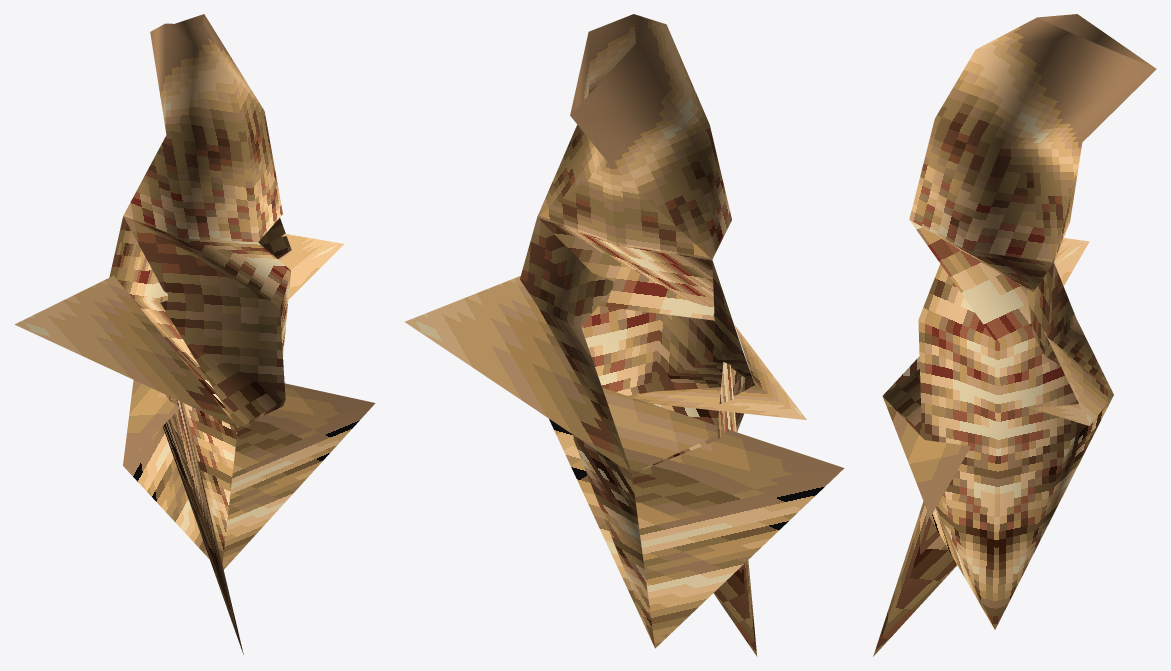
3 views of the same model, side by side, from view 1: azimuth 30°, elevation 25°; view 2: azimuth 150°, elevation 25°; view 3: azimuth 270°, elevation 25° (orthographic). The views are drawn at different scales.
Parts seen in each view (by area): view 1: 4829fish39; view 2: 4829fish39; view 3: 4829fish39.
Boxes of the visible parts, x1,y1,x2,y2 form: 4829fish39: (14,14,375,654); 4829fish39: (405,14,844,656); 4829fish39: (873,14,1156,656).
Size of the model in its own units: 0.6504 by 1.08 by 0.4222.
1 material, 1 textured.
